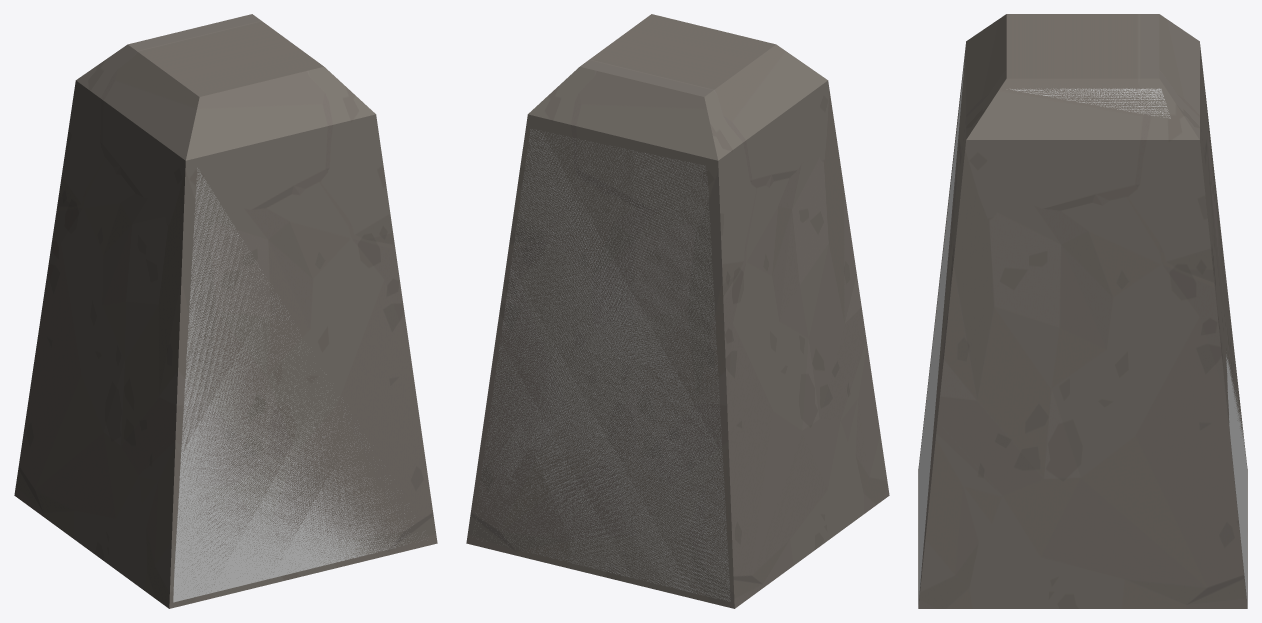
Rendered from SM_Bld_House_Base_Corner_01.fbx.
3 renders of one model, left to right at view 1: azimuth 30°, elevation 25°; view 2: azimuth 150°, elevation 25°; view 3: azimuth 270°, elevation 25°, orthographic. The views are drawn at different scales.
Parts seen in each view (by area): view 1: SM_Bld_House_Base_Corner_01, SM_Bld_House_Base_Corner_01_ConvexHulls; view 2: SM_Bld_House_Base_Corner_01, SM_Bld_House_Base_Corner_01_ConvexHulls; view 3: SM_Bld_House_Base_Corner_01, SM_Bld_House_Base_Corner_01_ConvexHulls.
Part boxes in pixels (<box>): SM_Bld_House_Base_Corner_01: <box>14,14,437,608</box>; SM_Bld_House_Base_Corner_01_ConvexHulls: <box>173,168,415,602</box>; SM_Bld_House_Base_Corner_01: <box>466,14,889,608</box>; SM_Bld_House_Base_Corner_01_ConvexHulls: <box>475,129,730,601</box>; SM_Bld_House_Base_Corner_01: <box>918,14,1247,608</box>; SM_Bld_House_Base_Corner_01_ConvexHulls: <box>919,60,1246,598</box>.
Size of the model in its own units: 95.39 by 95.39 by 158.
2 materials, 1 textured.
